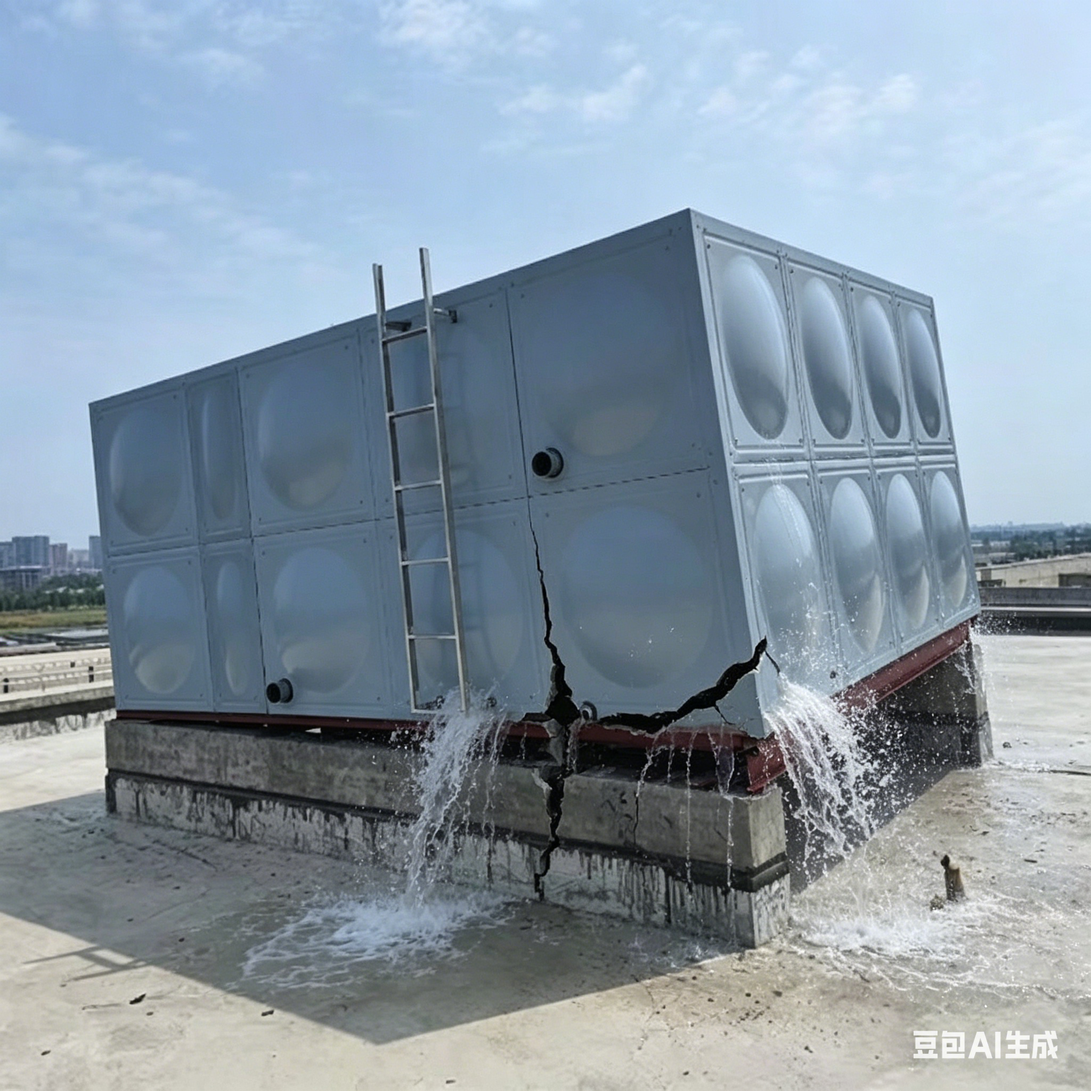Leakage: (748, 666, 1035, 983), (361, 704, 499, 963), (624, 724, 738, 939), (229, 878, 355, 989)
